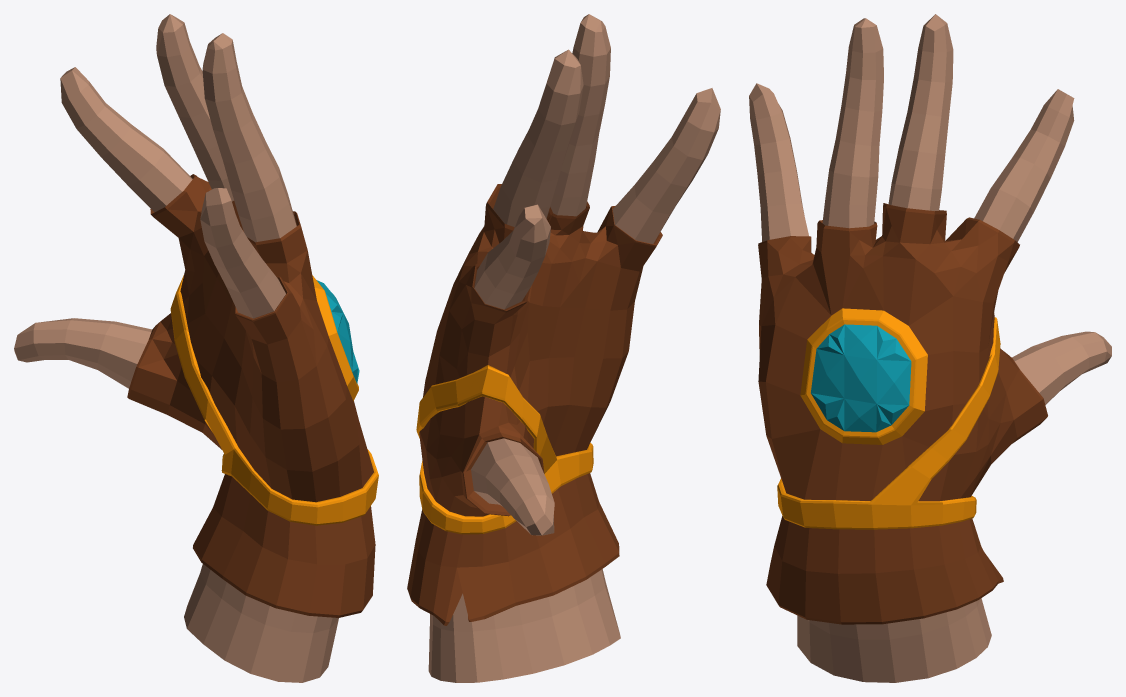
File: Hand2.fbx
3 renders of one model, left to right at view 1: azimuth 30°, elevation 25°; view 2: azimuth 150°, elevation 25°; view 3: azimuth 270°, elevation 25°, orthographic. The views are drawn at different scales.
Visible parts, largest first — view 1: USub_Arm.001, USub_Arm.002; view 2: USub_Arm.001, USub_Arm.002; view 3: USub_Arm.001, USub_Arm.002.
Part boxes in pixels (<box>): USub_Arm.001: <box>14,14,375,682</box>; USub_Arm.002: <box>170,275,378,525</box>; USub_Arm.001: <box>407,14,720,682</box>; USub_Arm.002: <box>416,365,593,534</box>; USub_Arm.001: <box>749,14,1111,682</box>; USub_Arm.002: <box>777,317,1000,529</box>.
Size of the model in its own units: 10.05 by 26.94 by 14.39.
